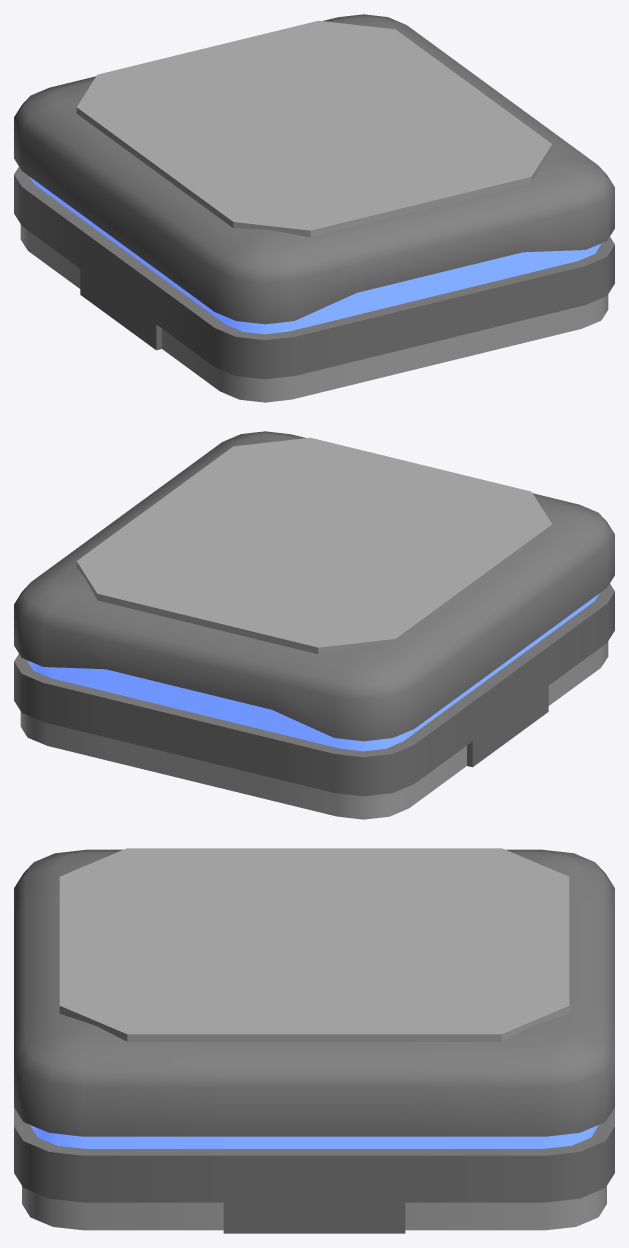
File: AGV.glb
3 views of the same model, one above another, from view 1: azimuth 30°, elevation 25°; view 2: azimuth 150°, elevation 25°; view 3: azimuth 270°, elevation 25° (orthographic). The views are drawn at different scales.
Visible parts, largest first — view 1: AGV; view 2: AGV; view 3: AGV.
Boxes of the visible parts, left/top/right/bottom form: AGV: left=14, top=14, right=614, bottom=402; AGV: left=14, top=431, right=614, bottom=819; AGV: left=14, top=848, right=614, bottom=1233.
Bounding box in the file's own units: 1.08 × 0.3904 × 1.19.
